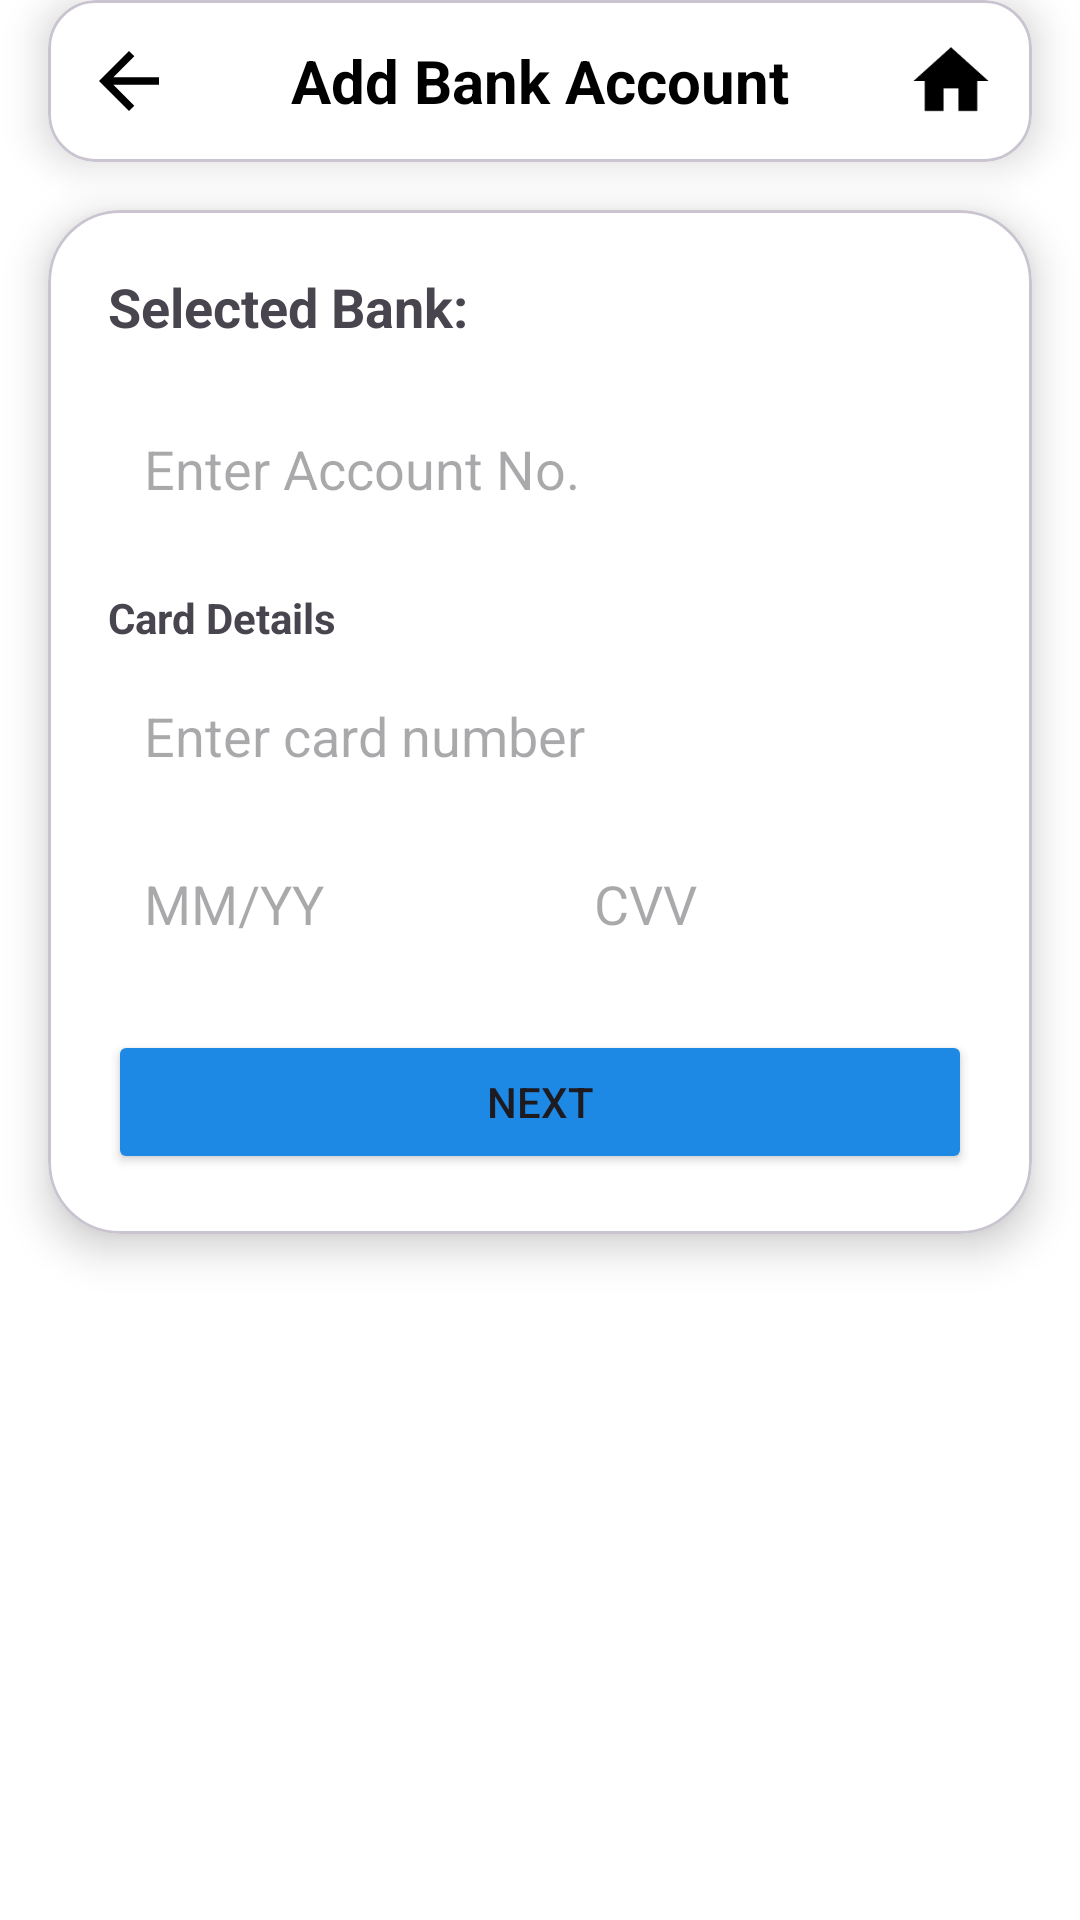

Icon bounding boxes for this 1080 x 1920 phone screenshot, format (x1, y1, x2, y2):
arrow back: (99, 51, 159, 111)
home: (913, 47, 989, 112)
